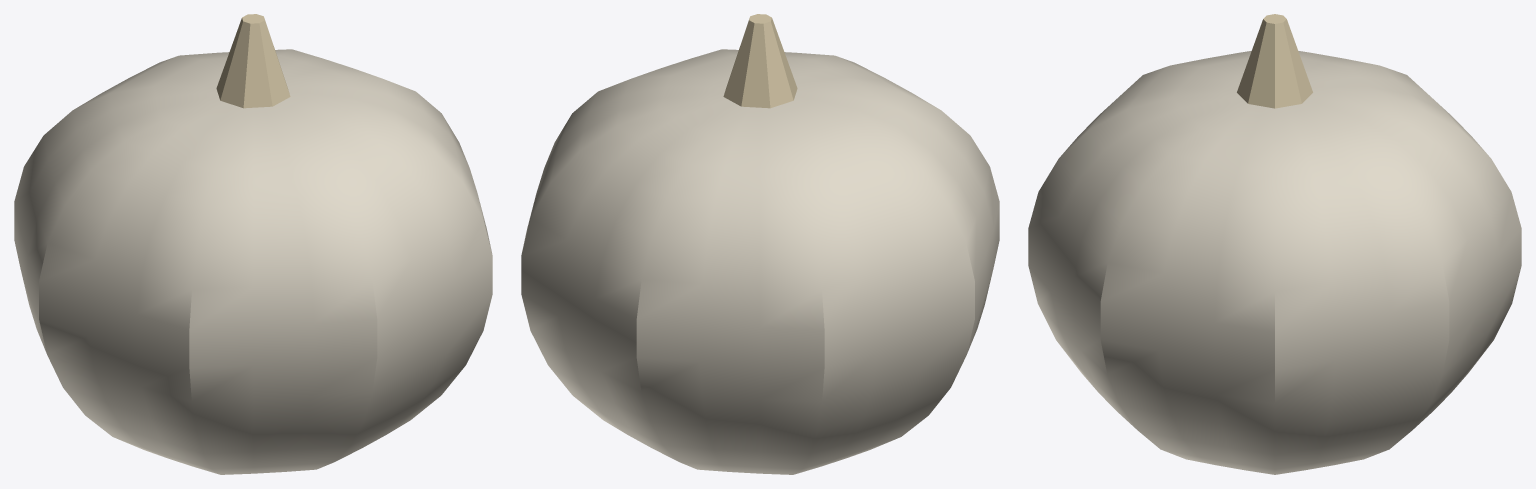
File: Garlic.fbx
3 renders of one model, left to right at view 1: azimuth 30°, elevation 25°; view 2: azimuth 150°, elevation 25°; view 3: azimuth 270°, elevation 25°, orthographic.
Visible parts, largest first — view 1: Garlic; view 2: Garlic; view 3: Garlic.
Part boxes in pixels (<box>): Garlic: <box>14,14,492,474</box>; Garlic: <box>521,14,999,474</box>; Garlic: <box>1028,14,1521,474</box>.
Size of the model in its own units: 0.0624 by 0.0588 by 0.0624.
